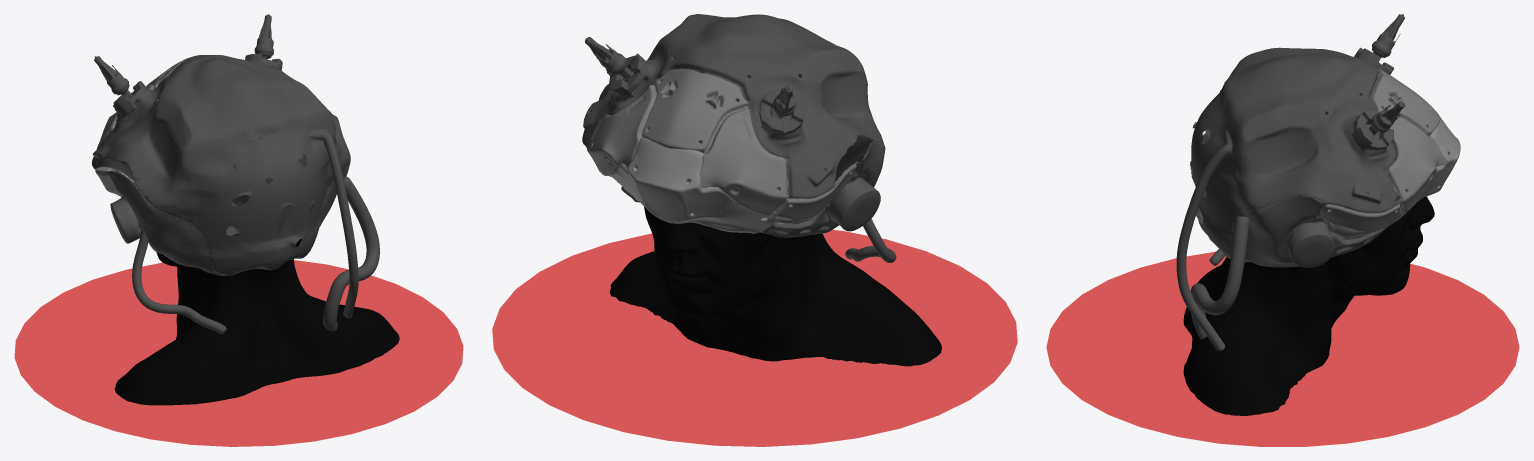
The model's file is head-transformed.glb.
3 views of the same model, side by side, from view 1: azimuth 30°, elevation 25°; view 2: azimuth 150°, elevation 25°; view 3: azimuth 270°, elevation 25° (orthographic). The views are drawn at different scales.
Parts seen in each view (by area): view 1: Object_4, Object_18, Object_10, Object_16; view 2: Object_18, Object_4, Object_10, Object_16; view 3: Object_18, Object_4, Object_10, Object_16.
Part boxes in pixels (<box>): Object_4: <box>92,14,379,334</box>; Object_18: <box>14,260,463,446</box>; Object_10: <box>114,196,399,405</box>; Object_16: <box>107,117,350,275</box>; Object_18: <box>492,230,1017,446</box>; Object_4: <box>582,14,896,262</box>; Object_10: <box>609,206,941,366</box>; Object_16: <box>604,88,885,237</box>; Object_18: <box>1046,251,1519,446</box>; Object_4: <box>1176,14,1460,350</box>; Object_10: <box>1183,196,1434,415</box>; Object_16: <box>1227,194,1383,267</box>.
Size of the model in its own units: 2.05 by 1.39 by 2.06.
4 materials, 4 textured.
